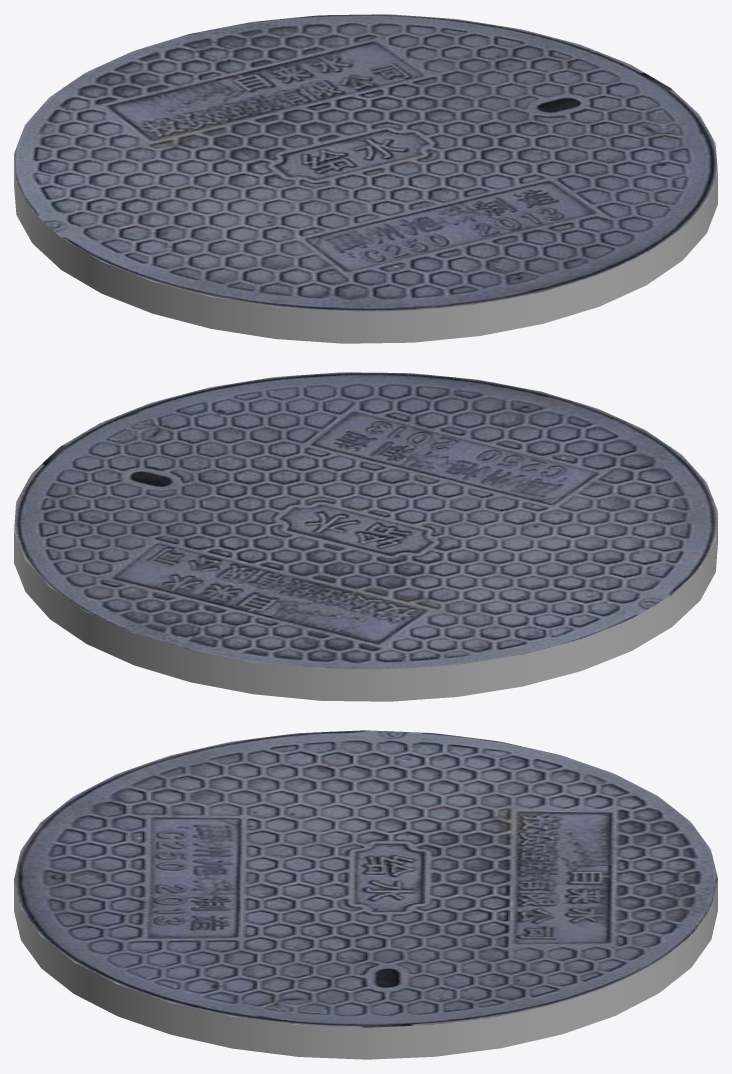
The picture shows the model from 3 angles, top to bottom: view 1: azimuth 30°, elevation 25°; view 2: azimuth 150°, elevation 25°; view 3: azimuth 270°, elevation 25°; orthographic projection.
Visible parts, largest first — view 1: 535000.001; view 2: 535000.001; view 3: 535000.001.
Part boxes in pixels (x1=…): 535000.001: x1=14, y1=14, x2=717, y2=343; 535000.001: x1=14, y1=372, x2=717, y2=701; 535000.001: x1=14, y1=730, x2=717, y2=1059.
Size of the model in its own units: 1 by 0.05 by 1.
Materials: 2 (1 with a texture image).
